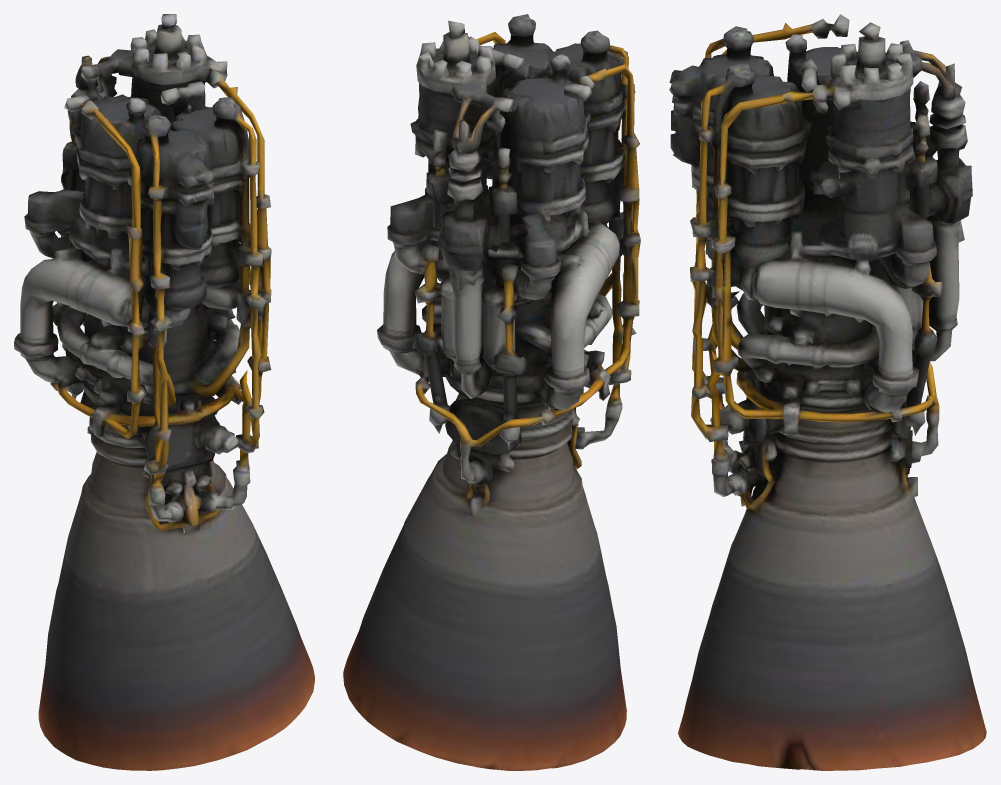
The model's file is engine.glb.
3 renders of one model, left to right at view 1: azimuth 30°, elevation 25°; view 2: azimuth 150°, elevation 25°; view 3: azimuth 270°, elevation 25°, orthographic. The views are drawn at different scales.
Parts seen in each view (by area): view 1: tripo_node_c093ba20-2337-4970-ab1a-11e5749f6a05; view 2: tripo_node_c093ba20-2337-4970-ab1a-11e5749f6a05; view 3: tripo_node_c093ba20-2337-4970-ab1a-11e5749f6a05.
Part boxes in pixels (<box>): tripo_node_c093ba20-2337-4970-ab1a-11e5749f6a05: <box>14,14,314,770</box>; tripo_node_c093ba20-2337-4970-ab1a-11e5749f6a05: <box>343,14,640,770</box>; tripo_node_c093ba20-2337-4970-ab1a-11e5749f6a05: <box>669,14,986,770</box>.
Size of the model in its own units: 0.3756 by 1 by 0.3894.
1 material, 1 textured.
